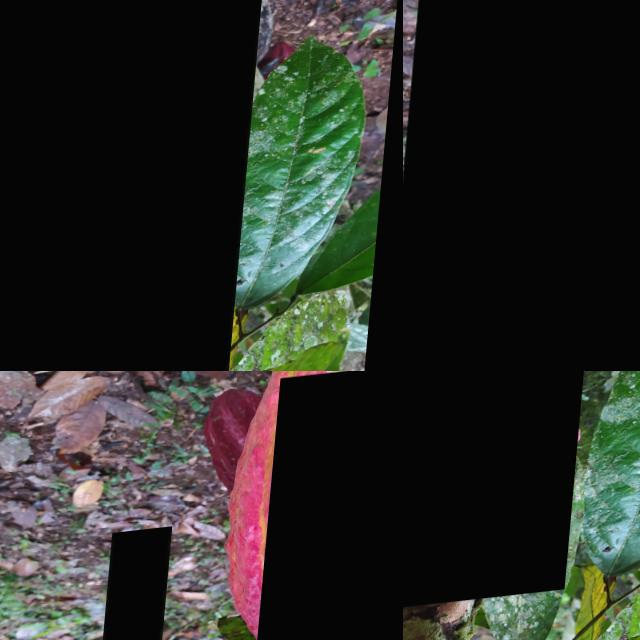Monilia: (403, 0, 640, 371), (262, 371, 403, 640), (103, 531, 177, 640)
Sana: (0, 0, 266, 371), (403, 371, 598, 618), (80, 0, 163, 54)
